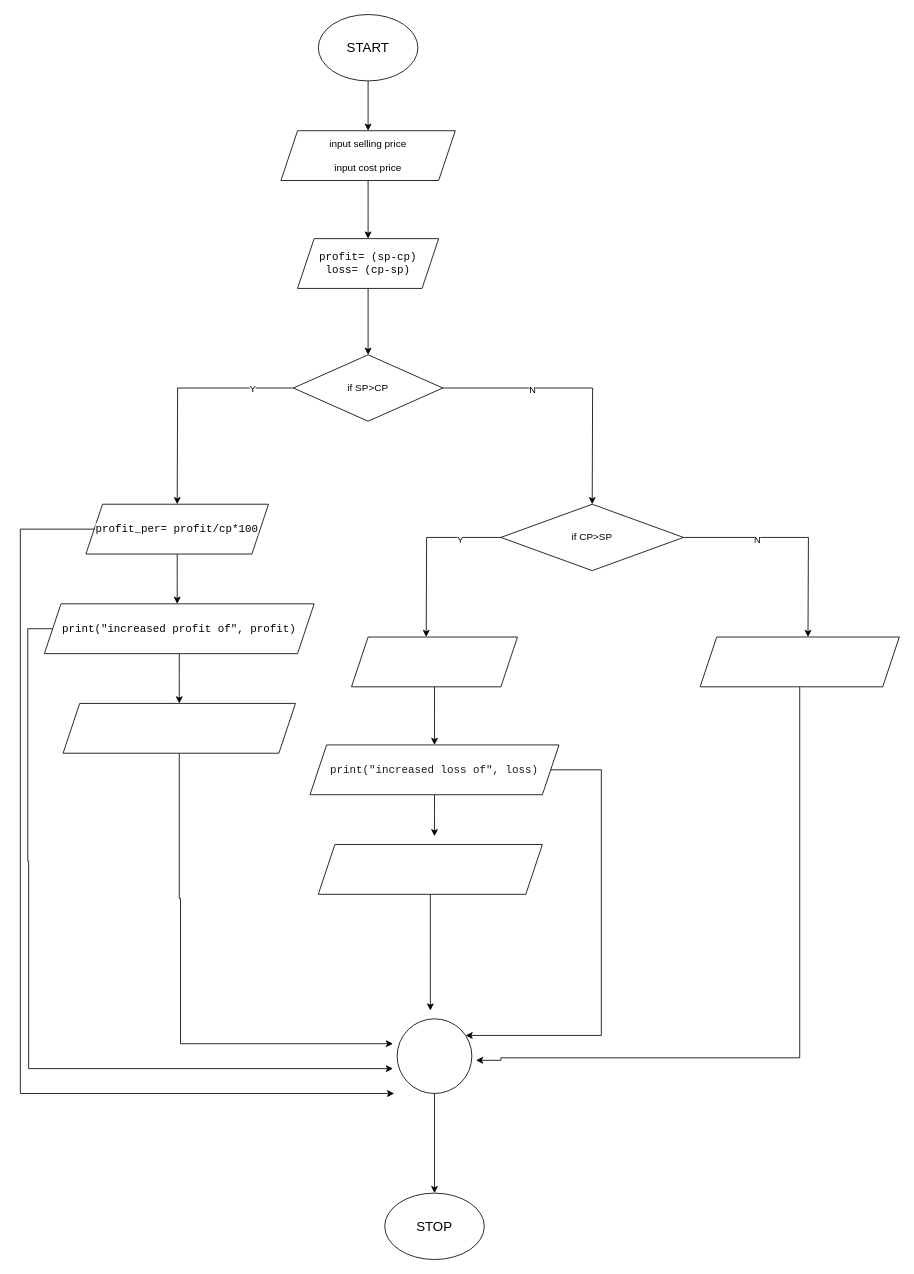
The diagram is 914 pixels wide and 1274 high, and some of its shapes have lost their labels. Each missing label, with the centre of its shape:
loss_per= loss/cp*100: point 434,661
print (no profit no loss): point 799,661
print("loss_per",loss_per): point 429,869
print("profit_per=", profit_per): point 178,728
